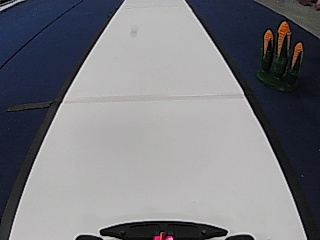corn: (255, 19, 302, 91)
